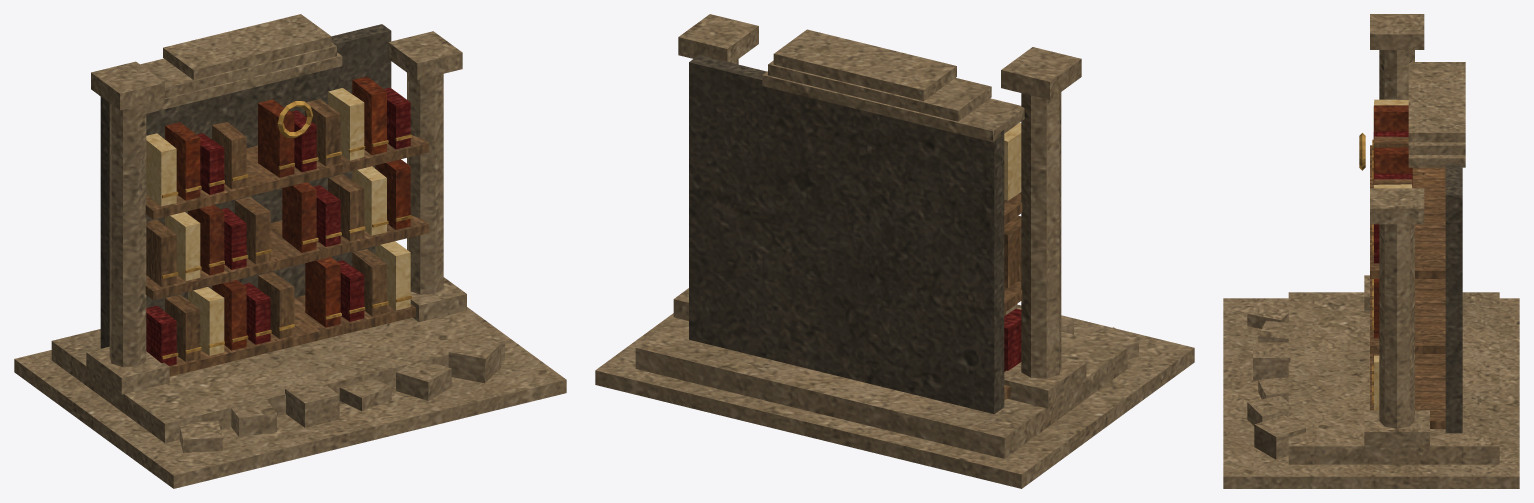
File: east-stack-ruin.glb
3 renders of one model, left to right at view 1: azimuth 30°, elevation 25°; view 2: azimuth 150°, elevation 25°; view 3: azimuth 270°, elevation 25°, orthographic. The views are drawn at different scales.
Parts seen in each view (by area): view 1: east-stack-ruin; view 2: east-stack-ruin; view 3: east-stack-ruin.
Boxes of the visible parts, left/top/right/bottom form: east-stack-ruin: left=14, top=14, right=566, bottom=488; east-stack-ruin: left=595, top=14, right=1194, bottom=488; east-stack-ruin: left=1223, top=14, right=1519, bottom=488.
Size of the model in its own units: 7.4 by 5.96 by 5.2.
1 material, 1 textured.
